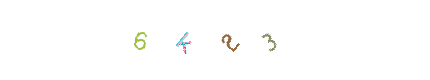2: (168, 0, 248, 80)
3: (175, 0, 255, 80)
6: (143, 0, 223, 80)
K: (156, 0, 236, 80)
